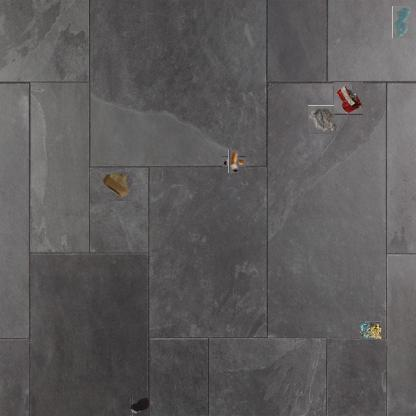dirty: (333, 81, 363, 115), (102, 170, 132, 200), (308, 105, 337, 135), (358, 320, 382, 340), (225, 153, 243, 170)
liquid: (392, 6, 411, 38), (130, 396, 150, 416)
